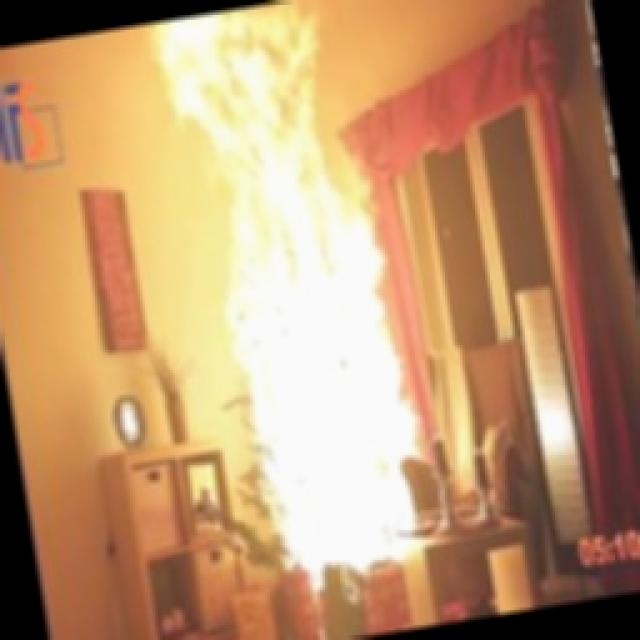fire: (124, 0, 467, 602)
